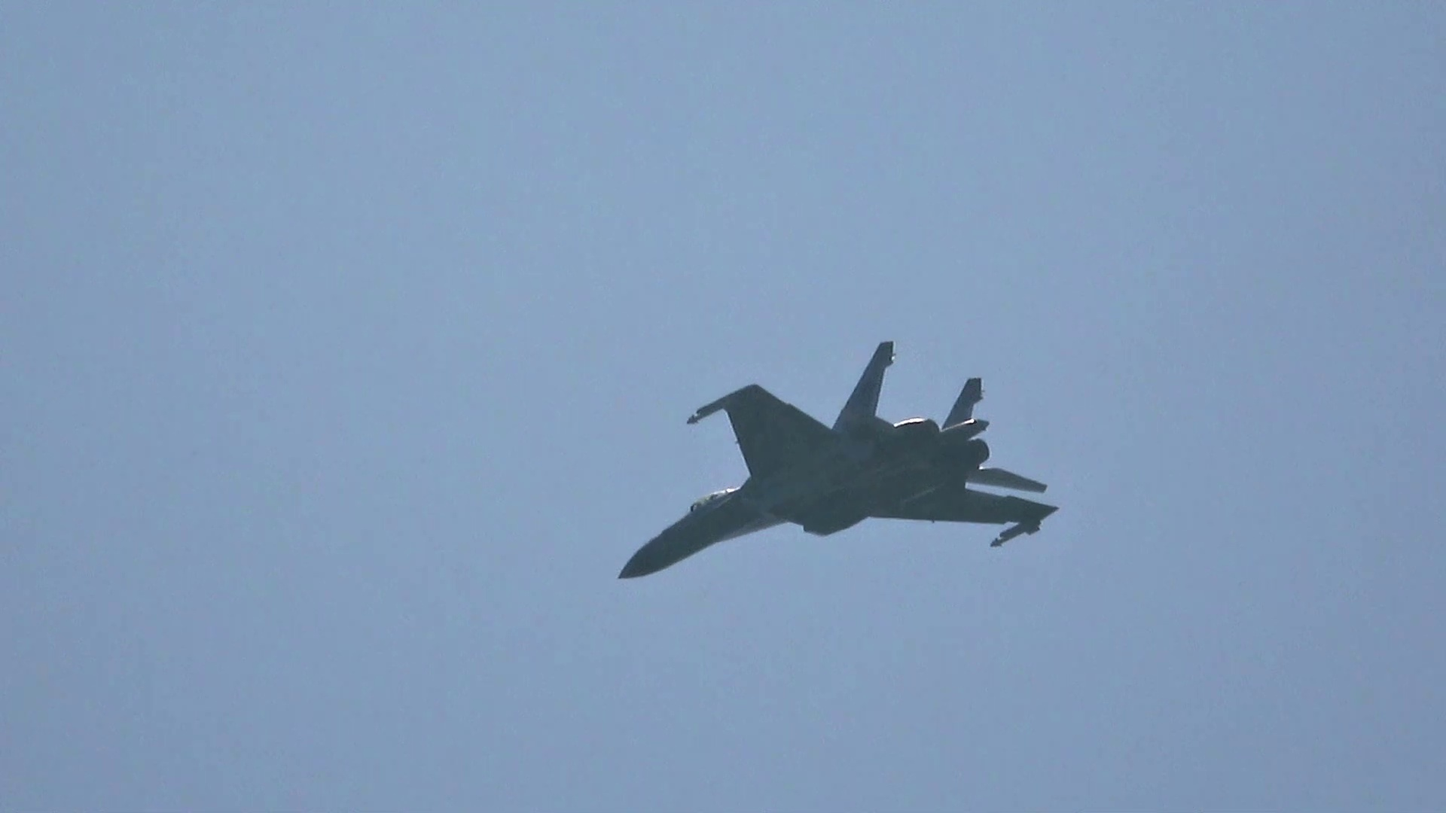Su35: (616, 339, 1061, 580)
